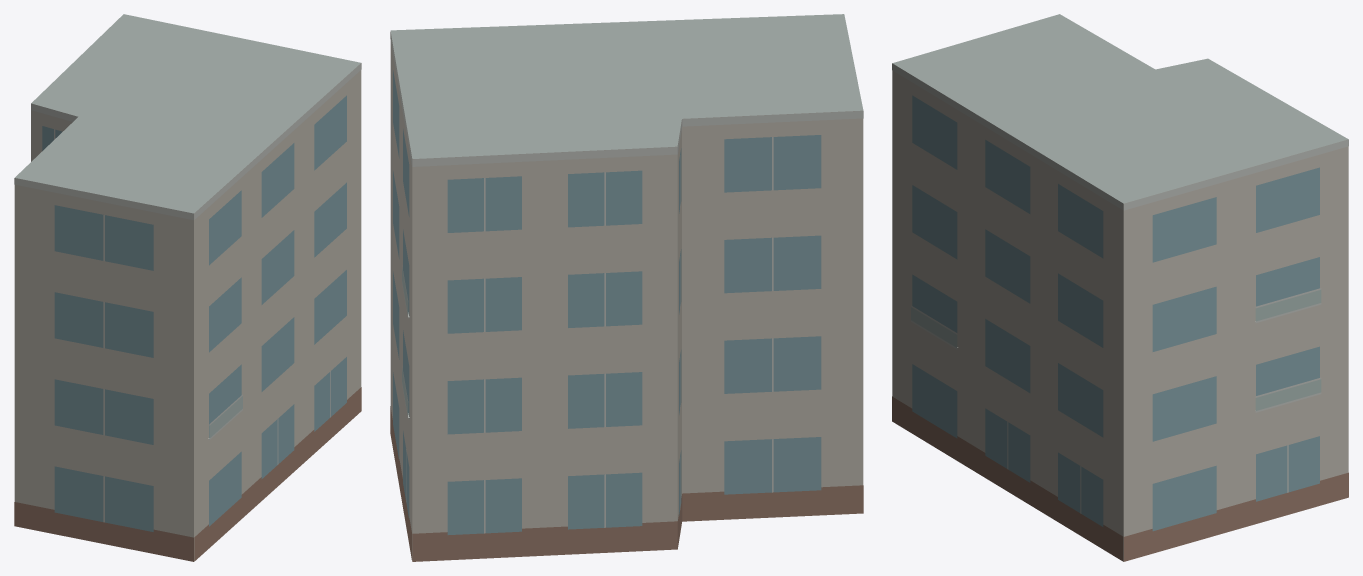
The model's file is survey-upis-32576406.glb.
3 views of the same model, side by side, from view 1: azimuth 30°, elevation 25°; view 2: azimuth 150°, elevation 25°; view 3: azimuth 270°, elevation 25° (orthographic). The views are drawn at different scales.
Visible parts, largest first — view 1: survey-upis-32576406.tmp; view 2: survey-upis-32576406.tmp; view 3: survey-upis-32576406.tmp.
Boxes of the visible parts, x1,y1,x2,y2 form: survey-upis-32576406.tmp: [14, 14, 361, 561]; survey-upis-32576406.tmp: [390, 14, 863, 561]; survey-upis-32576406.tmp: [892, 14, 1348, 561].
Size of the model in its own units: 14.2 by 12.5 by 14.45.
